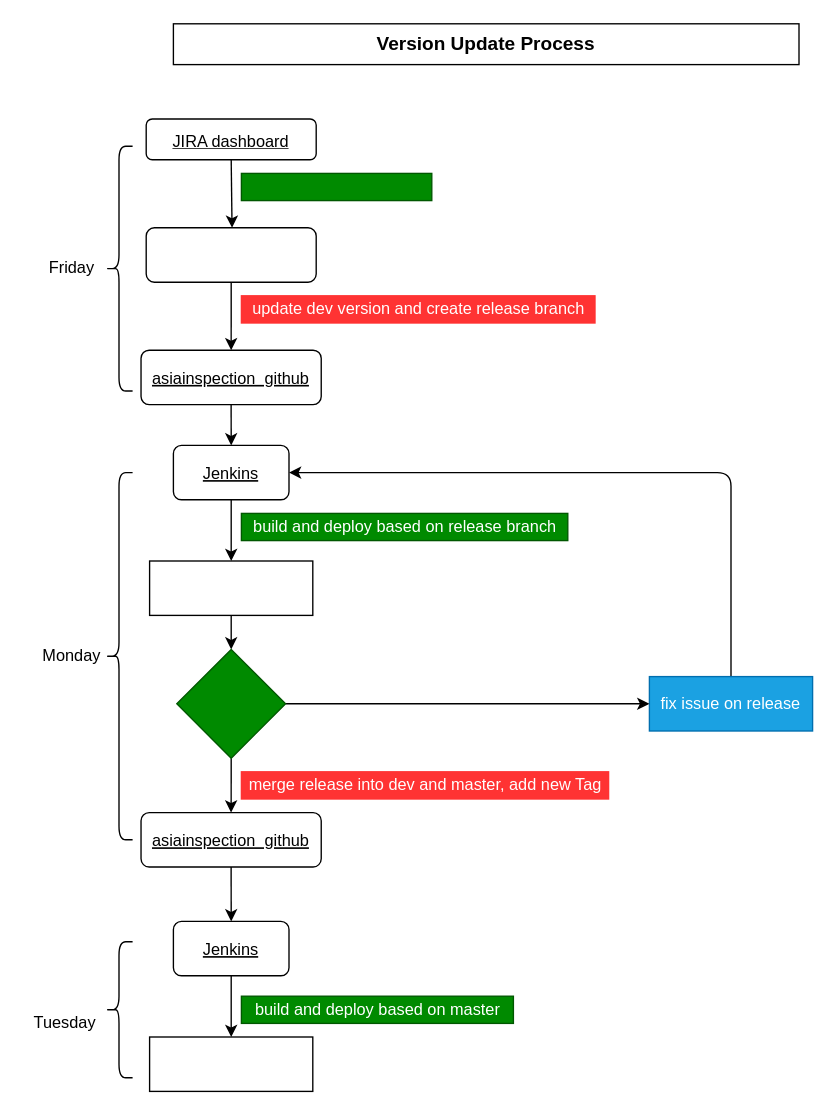
This 836x1115 diagram has some shape labels left out. Here are the shapes that lost their labels. From the top down, the centre of each, then its label:
At (336,186): "collect data from JIRA".
At (230,254): "share Excel".
At (230,587): "New PP Env".
At (230,703): "Test".
At (230,1063): "New Pro Env".
